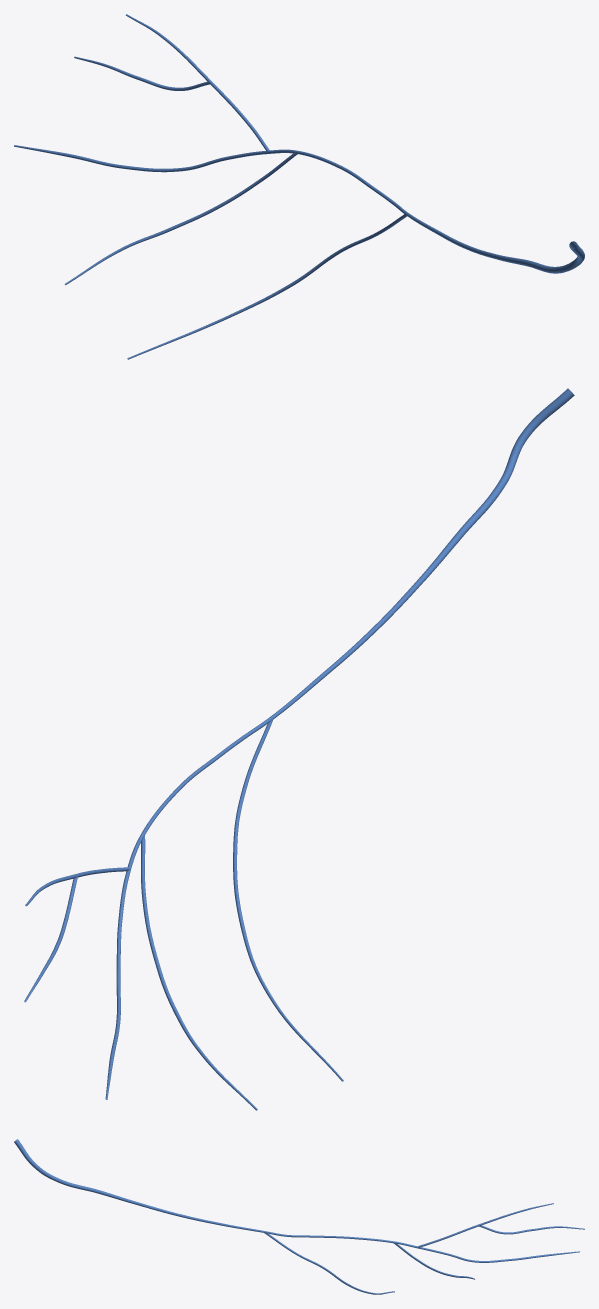
3 renders of one model, top to bottom at view 1: azimuth 30°, elevation 25°; view 2: azimuth 150°, elevation 25°; view 3: azimuth 270°, elevation 25°, orthographic. The views are drawn at different scales.
Parts seen in each view (by area): view 1: 左侧胸外侧静脉; view 2: 左侧胸外侧静脉; view 3: 左侧胸外侧静脉.
Boxes of the visible parts, x1,y1,x2,y2 form: 左侧胸外侧静脉: (14, 14, 584, 359); 左侧胸外侧静脉: (24, 388, 574, 1110); 左侧胸外侧静脉: (14, 1139, 584, 1294).
Size of the model in its own units: 0.1066 by 0.1832 by 0.4994.
